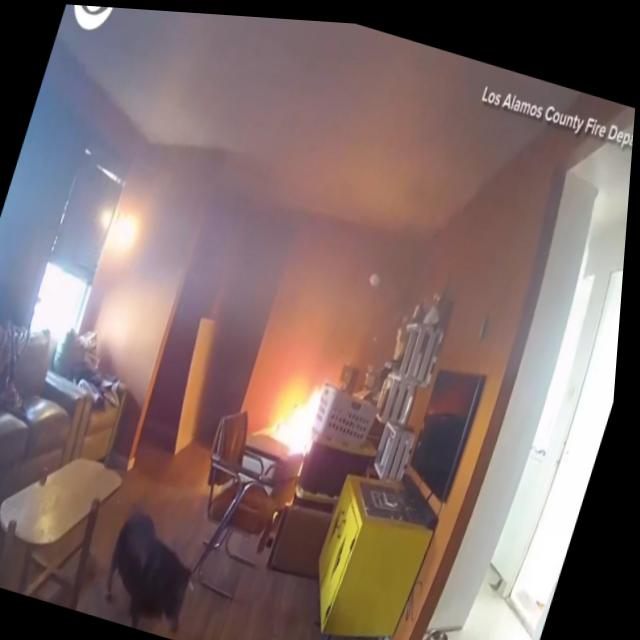fire: (273, 370, 336, 458)
